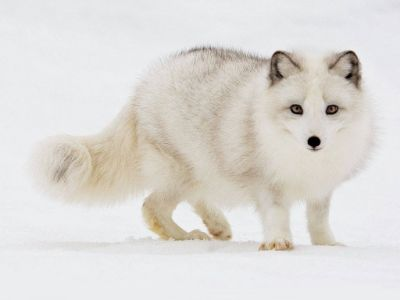fox: (27, 36, 373, 253)
